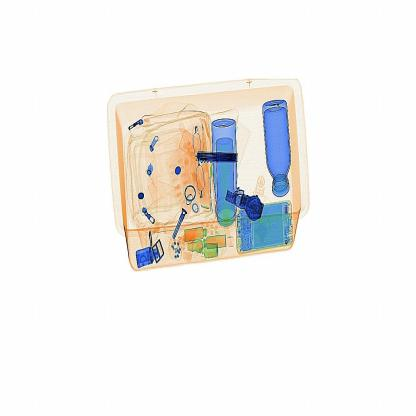scissors: (189, 138, 239, 169)
